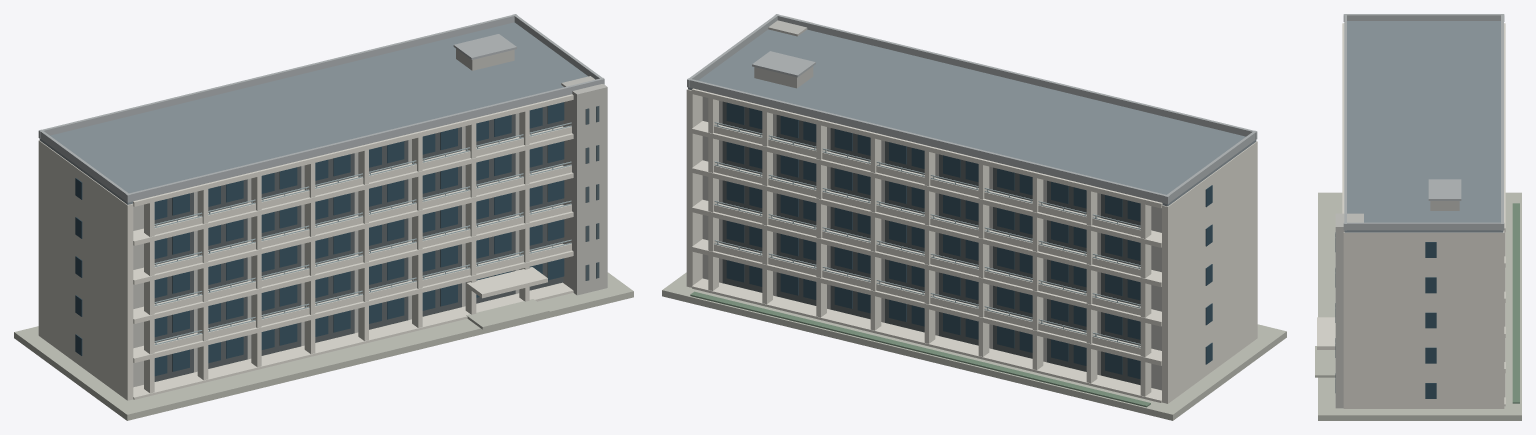
3 views of the same model, side by side, from view 1: azimuth 30°, elevation 25°; view 2: azimuth 150°, elevation 25°; view 3: azimuth 270°, elevation 25° (orthographic). The views are drawn at different scales.
Size of the model in its own units: 41.4 by 17.1 by 16.23.
